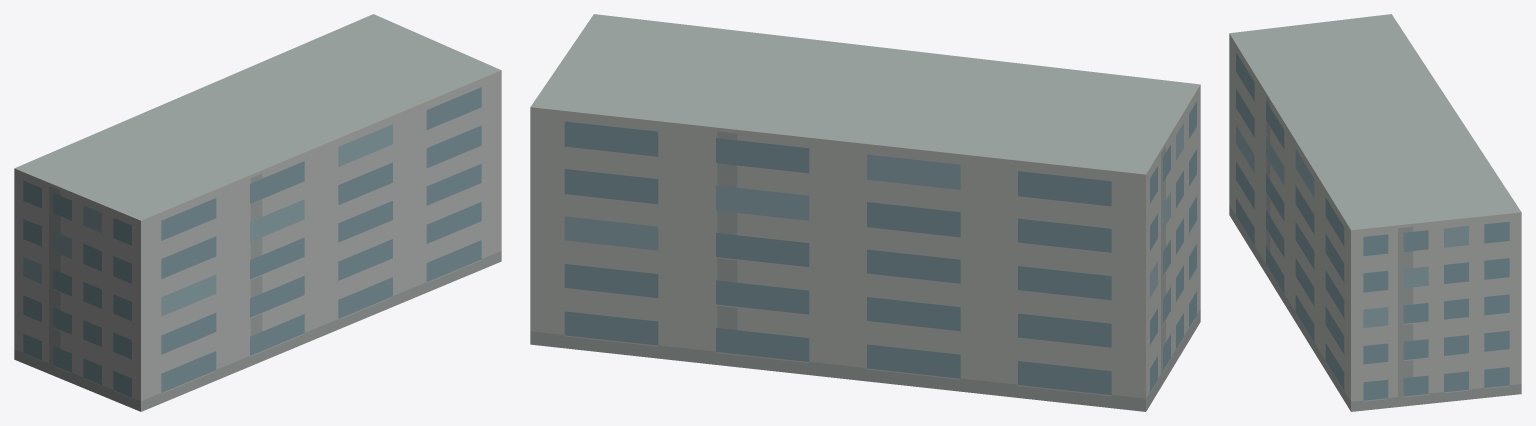
Rendered from residential-e3541766-711b-4222-be0f-1a8b510ae558.glb.
3 renders of one model, left to right at view 1: azimuth 30°, elevation 25°; view 2: azimuth 150°, elevation 25°; view 3: azimuth 270°, elevation 25°, orthographic. The views are drawn at different scales.
Visible parts, largest first — view 1: residential-e3541766-711b-4222-be0f-1a8b510ae558.tmp; view 2: residential-e3541766-711b-4222-be0f-1a8b510ae558.tmp; view 3: residential-e3541766-711b-4222-be0f-1a8b510ae558.tmp.
Part boxes in pixels (left/top/right/bottom): residential-e3541766-711b-4222-be0f-1a8b510ae558.tmp: left=14, top=14, right=501, bottom=411; residential-e3541766-711b-4222-be0f-1a8b510ae558.tmp: left=530, top=14, right=1200, bottom=411; residential-e3541766-711b-4222-be0f-1a8b510ae558.tmp: left=1229, top=14, right=1521, bottom=411.
Bounding box in the file's own units: 38.92 × 15.25 × 22.24.
